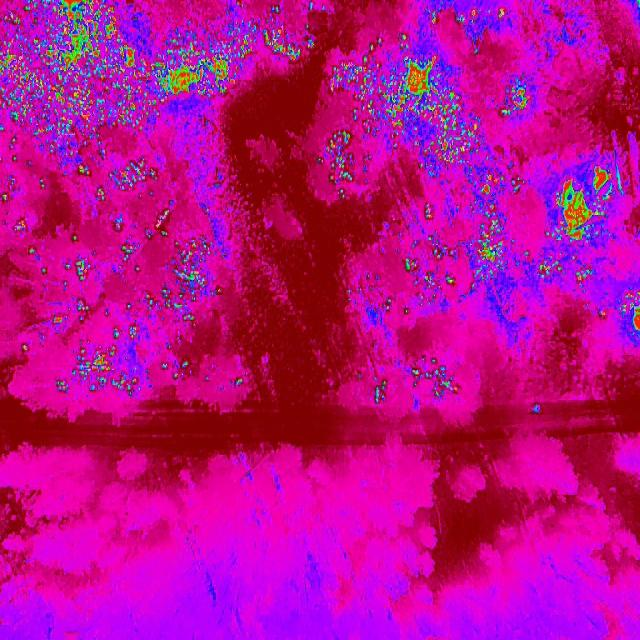fire: (0, 0, 229, 150), (328, 34, 480, 196), (542, 158, 625, 286), (460, 156, 528, 289), (51, 322, 153, 403), (229, 0, 318, 84), (146, 234, 222, 330), (400, 238, 460, 306), (95, 158, 158, 210), (406, 356, 461, 404), (494, 77, 534, 118), (617, 284, 640, 344), (66, 254, 96, 288), (113, 240, 137, 264), (74, 299, 93, 321)
